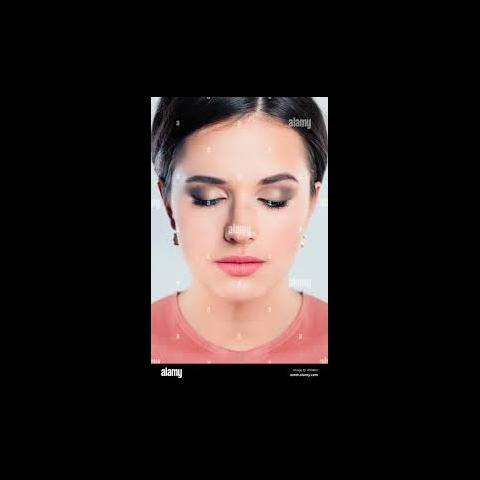closed: (181, 164, 302, 220)
